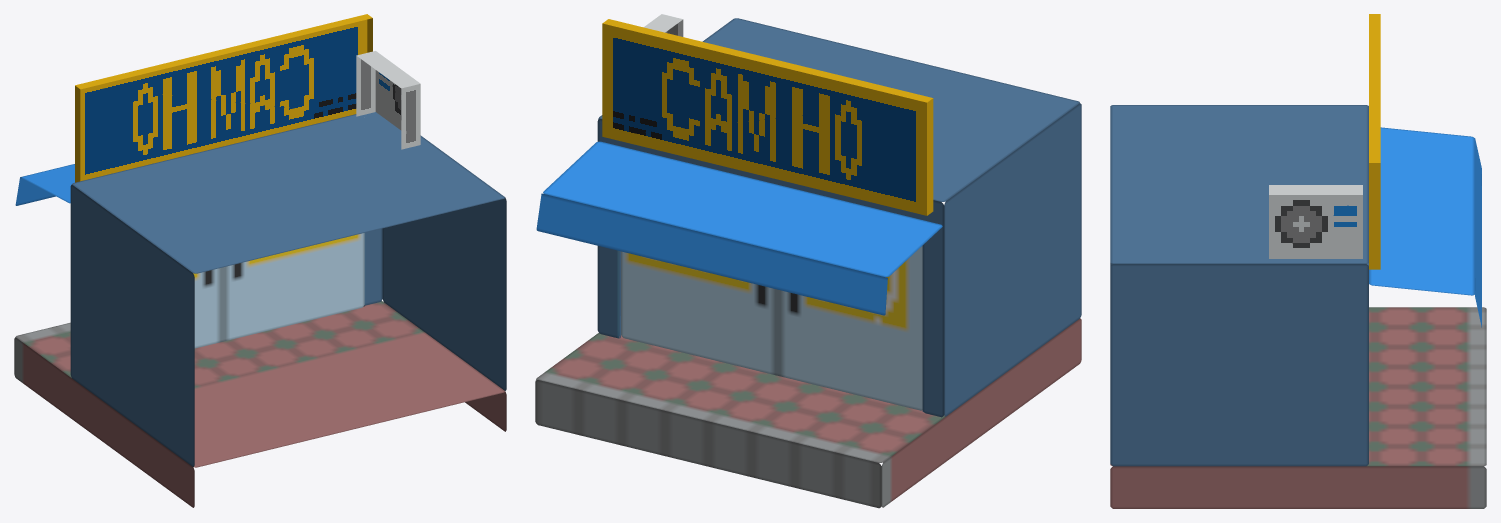
Rendered from House 5.fbx.
The picture shows the model from 3 angles, left to right: view 1: azimuth 30°, elevation 25°; view 2: azimuth 150°, elevation 25°; view 3: azimuth 270°, elevation 25°; orthographic projection. The views are drawn at different scales.
Parts seen in each view (by area): view 1: House, SideRoad, Banner, AC, plane; view 2: House, SideRoad, Banner, plane; view 3: House, SideRoad, plane, AC, Banner.
Boxes of the visible parts, left/top/right/bottom form: House: left=70, top=112, right=506, bottom=466; SideRoad: left=14, top=301, right=506, bottom=507; Banner: left=75, top=14, right=372, bottom=182; AC: left=356, top=51, right=420, bottom=149; plane: left=15, top=164, right=74, bottom=205; House: left=597, top=18, right=1081, bottom=417; SideRoad: left=535, top=318, right=1081, bottom=508; Banner: left=602, top=19, right=933, bottom=215; plane: left=536, top=141, right=942, bottom=315; House: left=1110, top=105, right=1368, bottom=466; SideRoad: left=1110, top=307, right=1486, bottom=508; plane: left=1369, top=127, right=1481, bottom=327; AC: left=1269, top=185, right=1362, bottom=258; Banner: left=1369, top=14, right=1380, bottom=269.
Bounding box in the file's own units: 202 × 200 × 200.
Materials: 4 (4 with a texture image).
